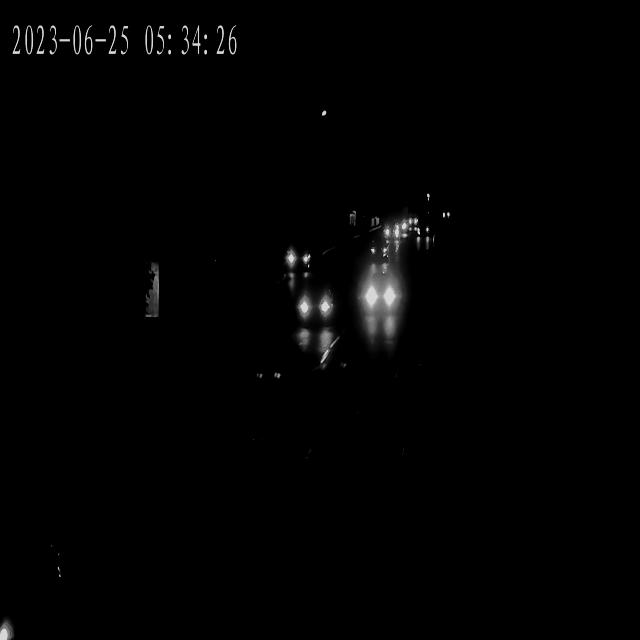Car: (362, 264, 404, 317), (295, 283, 336, 328), (284, 236, 312, 273), (386, 218, 400, 243), (414, 223, 434, 240), (402, 206, 416, 226), (394, 217, 409, 233)
